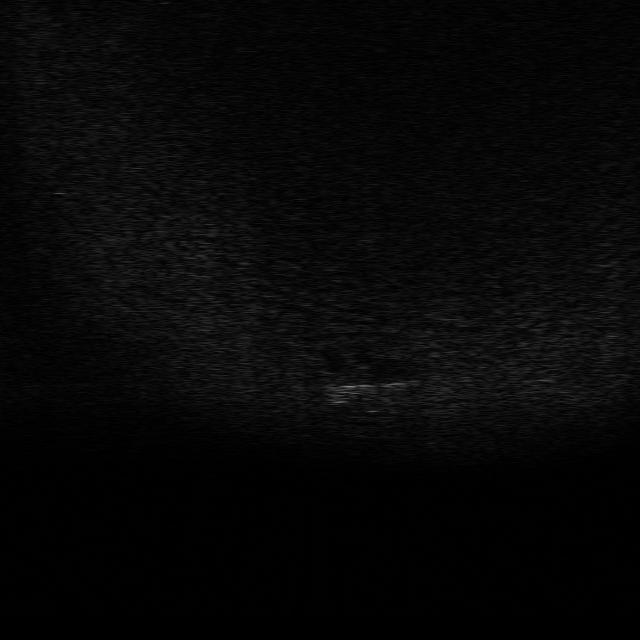plane: (320, 365, 412, 408)
